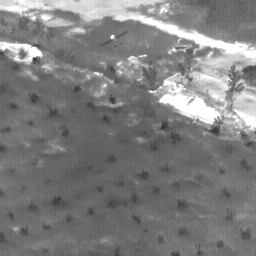aircraft: (112, 36, 114, 38)
